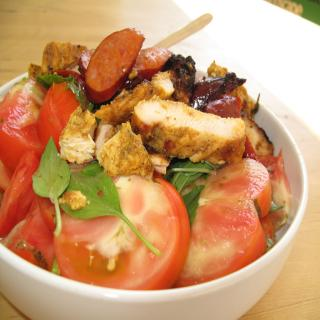tomato: (54, 172, 190, 292), (172, 158, 272, 286), (0, 76, 47, 170), (36, 81, 91, 160), (9, 195, 60, 272), (0, 147, 41, 237)
